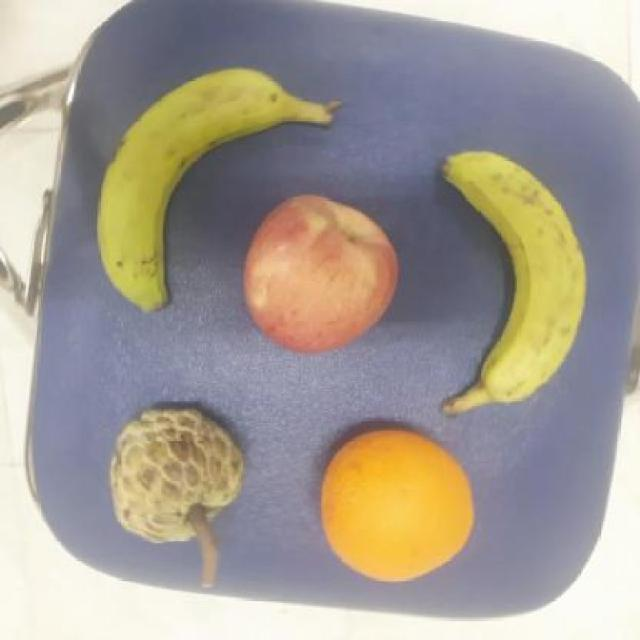apple: (243, 191, 403, 360)
banana: (93, 66, 345, 317), (442, 153, 589, 421)
oren: (318, 428, 480, 583)
sugar apple: (105, 405, 250, 548)
